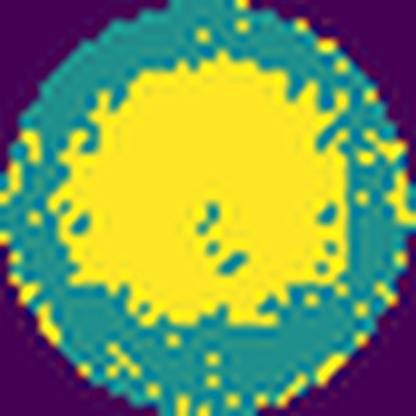Center: (55, 53, 350, 327)
